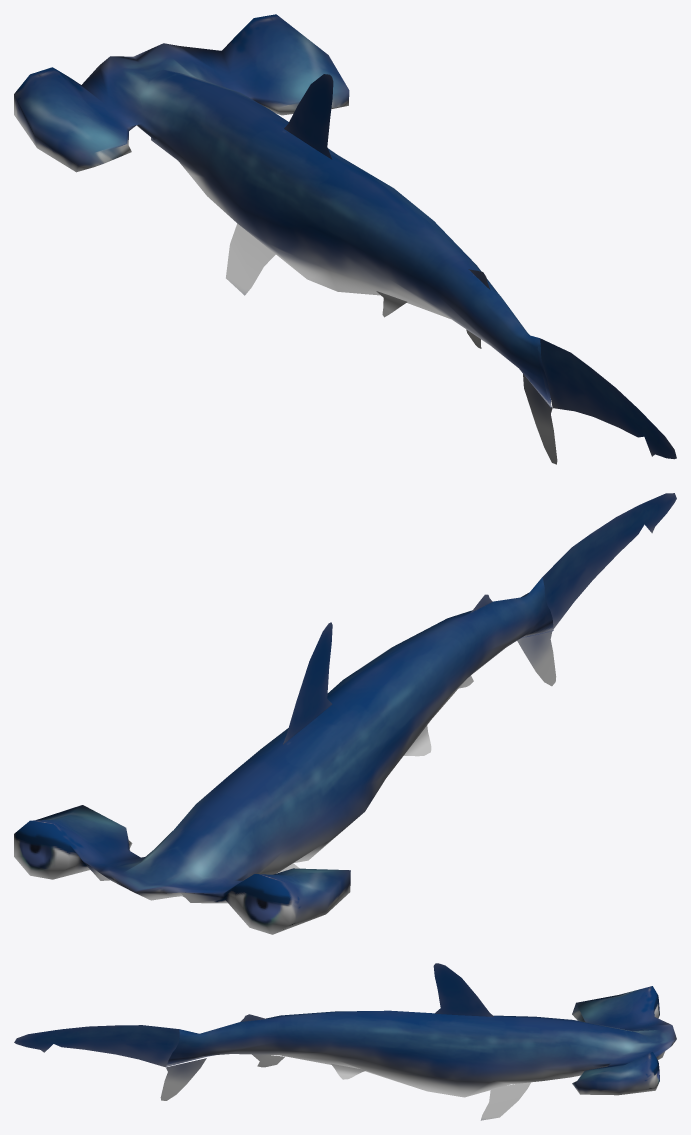
File: Shark.fbx
The picture shows the model from 3 angles, top to bottom: view 1: azimuth 30°, elevation 25°; view 2: azimuth 150°, elevation 25°; view 3: azimuth 270°, elevation 25°; orthographic projection. The views are drawn at different scales.
Parts seen in each view (by area): view 1: Shark_LOD00; view 2: Shark_LOD00; view 3: Shark_LOD00.
Part boxes in pixels (<box>): Shark_LOD00: <box>14,14,676,464</box>; Shark_LOD00: <box>14,493,676,934</box>; Shark_LOD00: <box>14,963,676,1120</box>.
Size of what is drawn, in the model's own units: 101 by 76.53 by 321.
